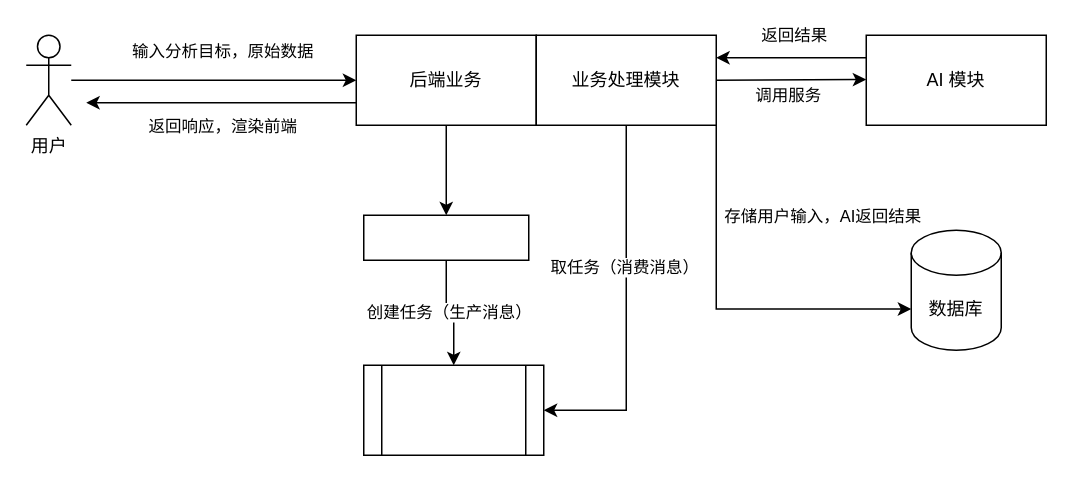
Some shapes in this 1073 by 482 pixel diagram are drawn without their labels. Here are the shapes that lost their labels. From the top down, the centre of each, then its label:
At (x=445, y=237): "限流".
At (x=453, y=409): "消息队列 任务排队".
